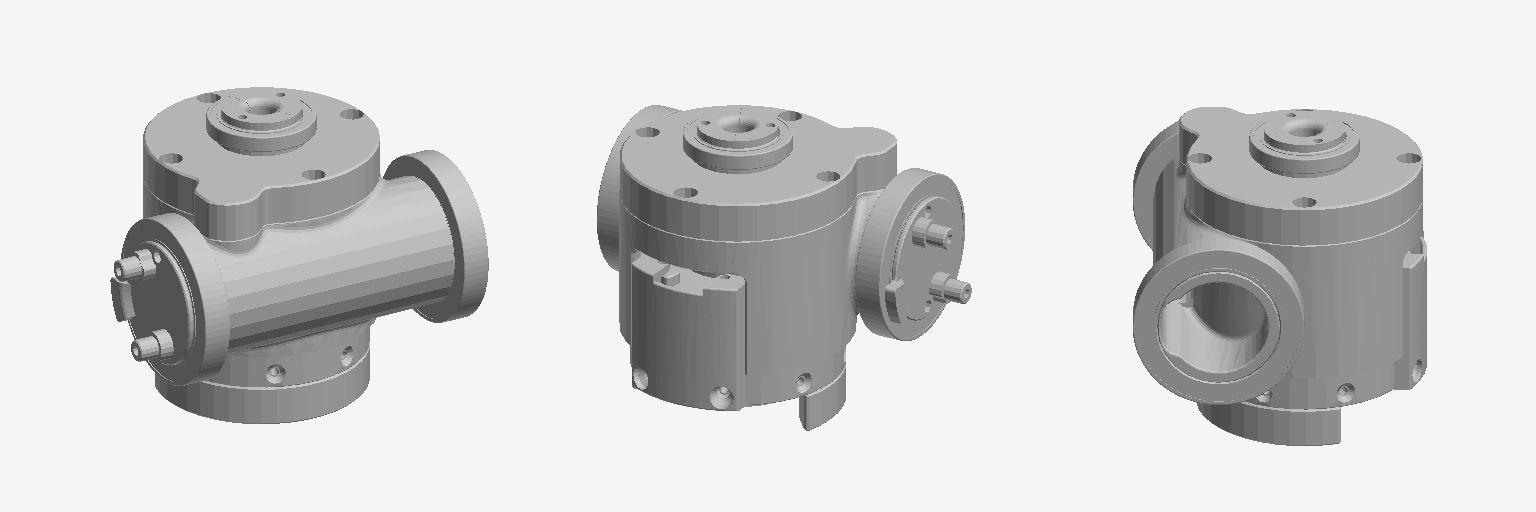
The model's file is r_hand_roll.obj.
The picture shows the model from 3 angles: view 1: azimuth 30°, elevation 25°; view 2: azimuth 150°, elevation 25°; view 3: azimuth 270°, elevation 25°; orthographic projection.
Visible parts, largest first — view 1: obj1; view 2: obj1; view 3: obj1.
Part boxes in pixels (bbox=[...]): obj1: bbox=[110, 87, 488, 423]; obj1: bbox=[597, 105, 971, 430]; obj1: bbox=[1133, 107, 1426, 445].
Size of the model in its own units: 0.09 by 0.0737 by 0.072.